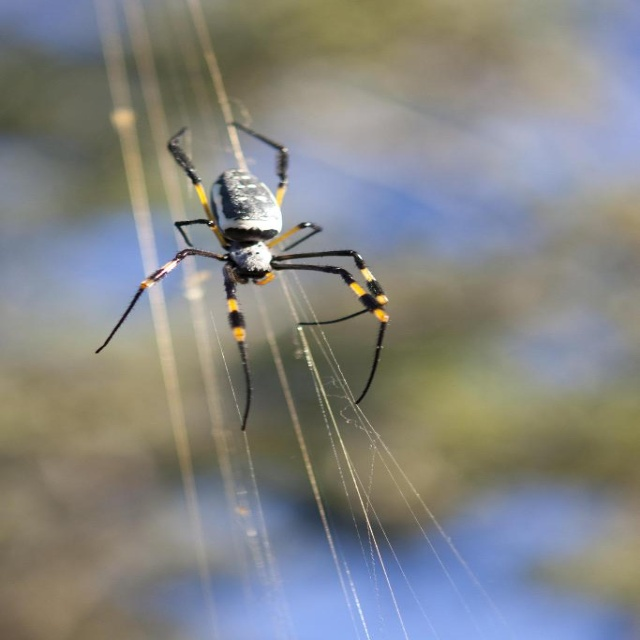Spider: (94, 120, 391, 432)
